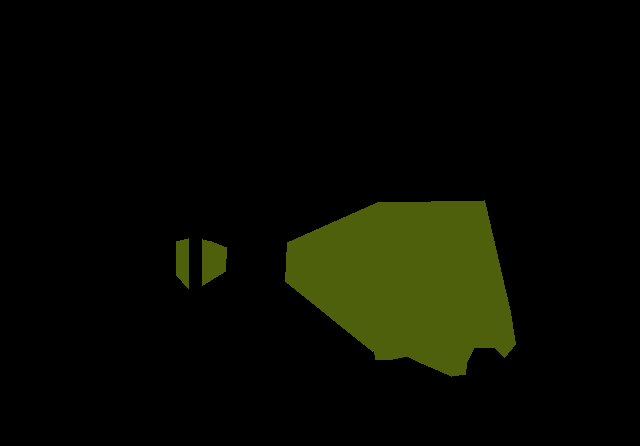Train: (285, 200, 515, 377), (176, 238, 226, 288)
